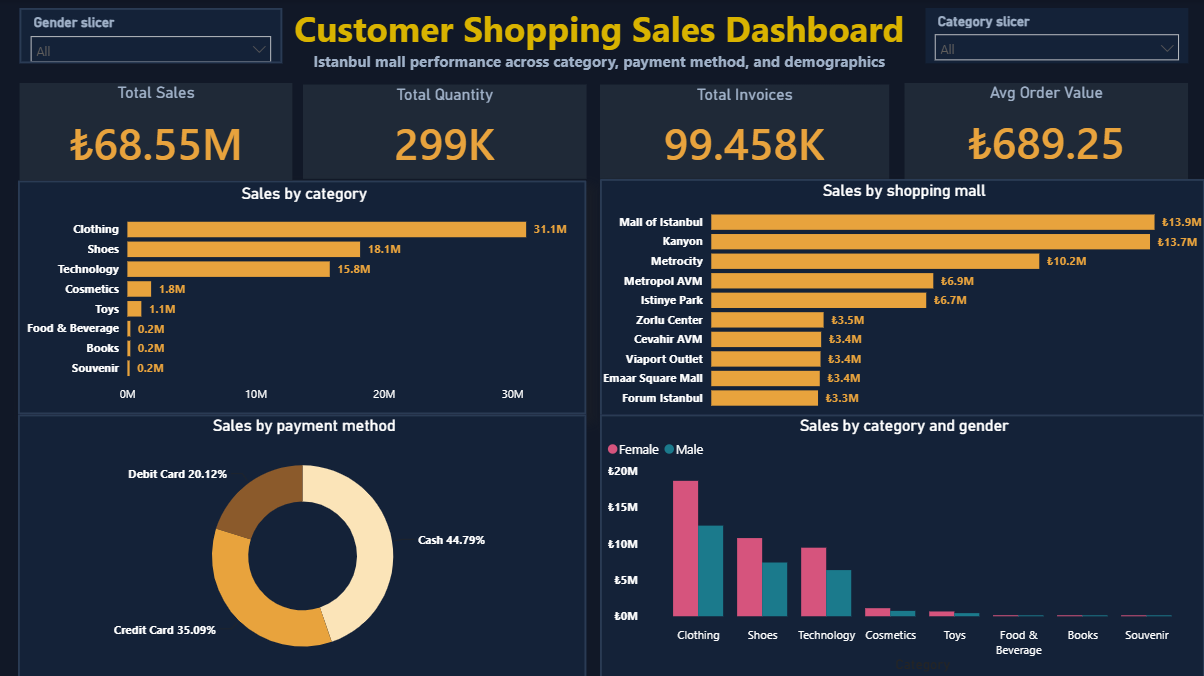

The dashboard page shown, as its layout file describes it:
{"tool":"powerbi","page":{"name":"Page 1","canvas":[1280,720],"ordinal":0},"visuals":[{"type":"textbox","box":[289.5,0,691.9,97],"z":0},{"type":"cardVisual","title":"Total Quantity","fields":{"Data":["Sum(customer_shopping_data (1).quantity)"]},"box":[321.3,90.7,300.6,100.2],"z":1000},{"type":"cardVisual","title":"Avg Order Value","fields":{"Data":["Sales.Average Order Value"]},"box":[959.1,89.1,300.6,101.8],"z":2000},{"type":"cardVisual","title":"Total Invoices","fields":{"Data":["Count(customer_shopping_data (1).invoice_no)"]},"box":[636.2,90.7,307,100.2],"z":3000},{"type":"clusteredBarChart","title":"Sales by category","fields":{"Category":["customer_shopping_data (1).category"],"Y":["Sales.Total Revenue"]},"box":[19.1,192.5,602.8,248.1],"z":4000},{"type":"clusteredBarChart","title":"Sales by shopping mall","fields":{"Category":["customer_shopping_data (1).shopping_mall"],"Y":["Sum(customer_shopping_data (1).price)"]},"box":[636.2,190.9,641,256],"z":5000},{"type":"donutChart","title":"Sales by payment method","fields":{"Category":["customer_shopping_data (1).payment_method"],"Y":["Sum(customer_shopping_data (1).price)"]},"box":[19.1,440.6,602.8,279.9],"z":6000},{"type":"clusteredColumnChart","title":"Sales by category and gender","fields":{"Category":["customer_shopping_data (1).category"],"Y":["Sum(Sales.Price)"],"Series":["Sales.Gender"]},"box":[636.2,440.6,641,279.9],"z":7000},{"type":"slicer","fields":{"Values":["customer_shopping_data (1).category"]},"box":[981.4,9,278.4,58.9],"z":8000},{"type":"cardVisual","title":"Total Sales","fields":{"Data":["Sum(Sales.Price)"]},"box":[20.7,89.1,289.5,103.4],"z":9000},{"type":"slicer","fields":{"Values":["Sales.Gender"]},"box":[20.7,9.5,278.4,58.9],"z":10000}]}

Visuals, with their boxes in screenshot pixels (x1, y1, x2, y2), scaled from the page's 1280x720 canvas onto the 1204x676 screenshot:
textbox: select_region(272, 0, 923, 91)
"Total Quantity" cardVisual: select_region(302, 85, 585, 179)
"Avg Order Value" cardVisual: select_region(902, 84, 1185, 179)
"Total Invoices" cardVisual: select_region(598, 85, 887, 179)
"Sales by category" clusteredBarChart: select_region(18, 181, 585, 414)
"Sales by shopping mall" clusteredBarChart: select_region(598, 179, 1201, 420)
"Sales by payment method" donutChart: select_region(18, 414, 585, 675)
"Sales by category and gender" clusteredColumnChart: select_region(598, 414, 1201, 675)
slicer - customer_shopping_data (1).category: select_region(923, 8, 1185, 64)
"Total Sales" cardVisual: select_region(19, 84, 292, 181)
slicer - Sales.Gender: select_region(19, 9, 281, 64)
